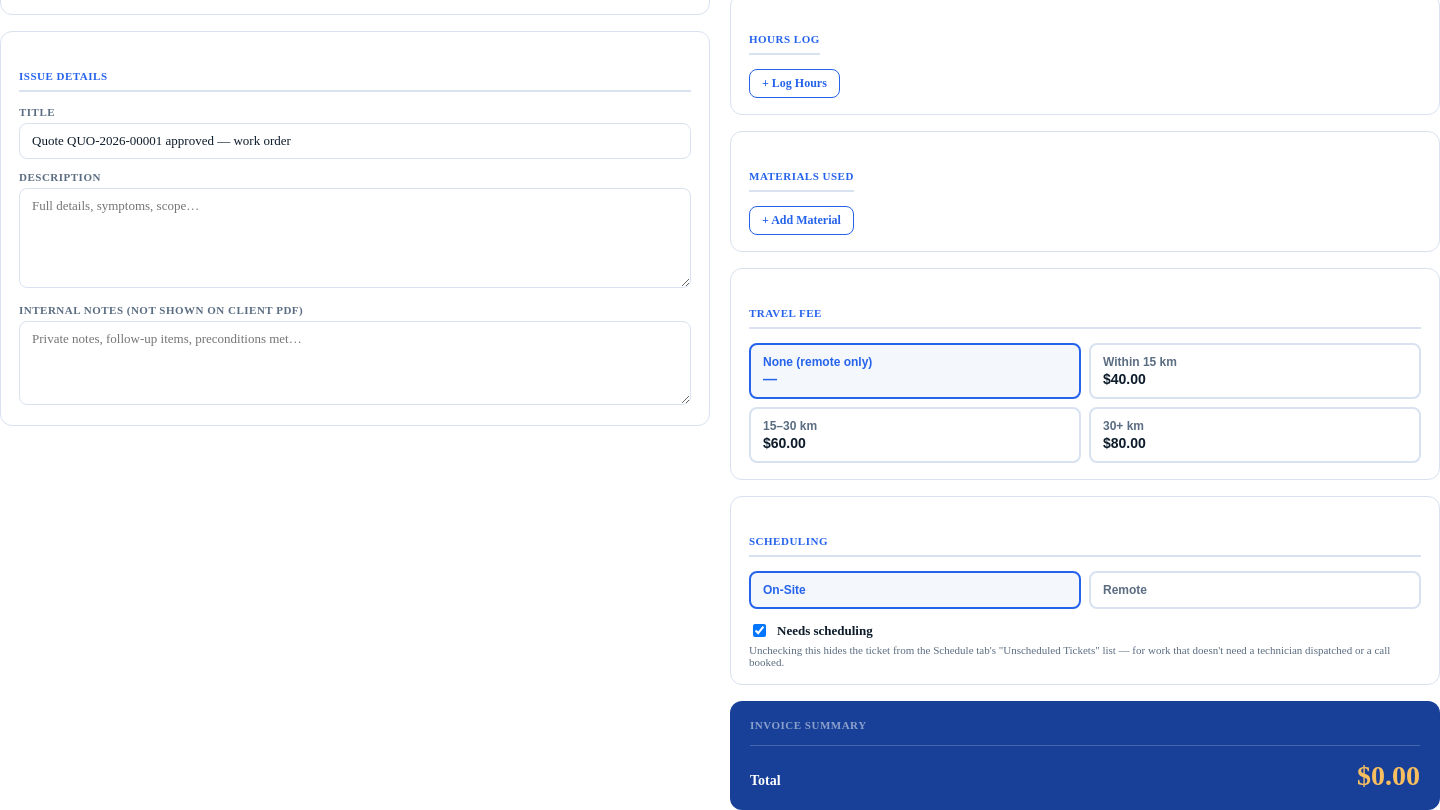
Scenario: Scheduling section (Work Location / Needs Scheduling) › picking Remote on a NEW ticket auto-unchecks Needs Scheduling
(page scrolled)
Click the button "Remote".
click(1125, 590)  # box [1089,571,1421,609]
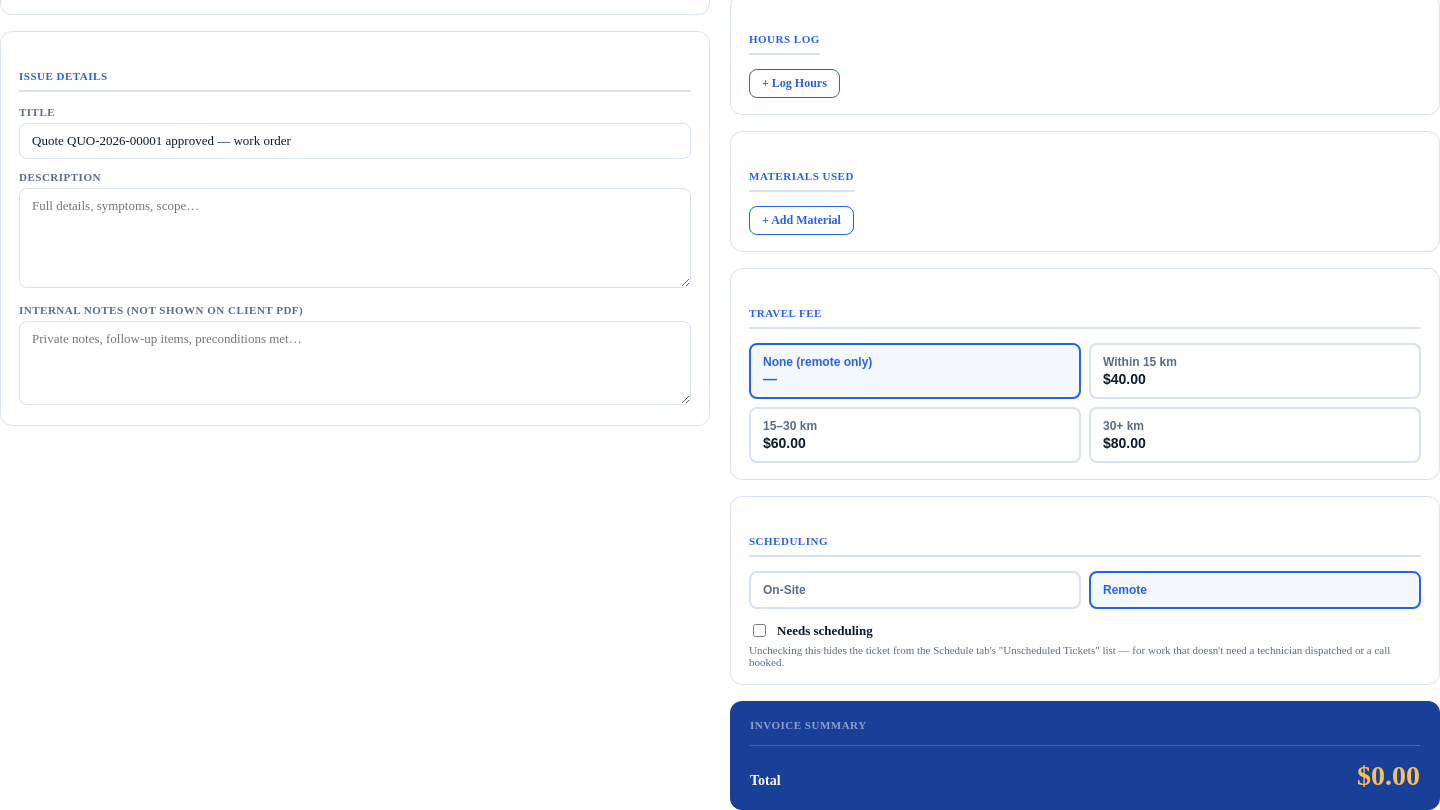
Expected: the checkbox labelled "Needs scheduling" is not checked, [753,624,766,637]
